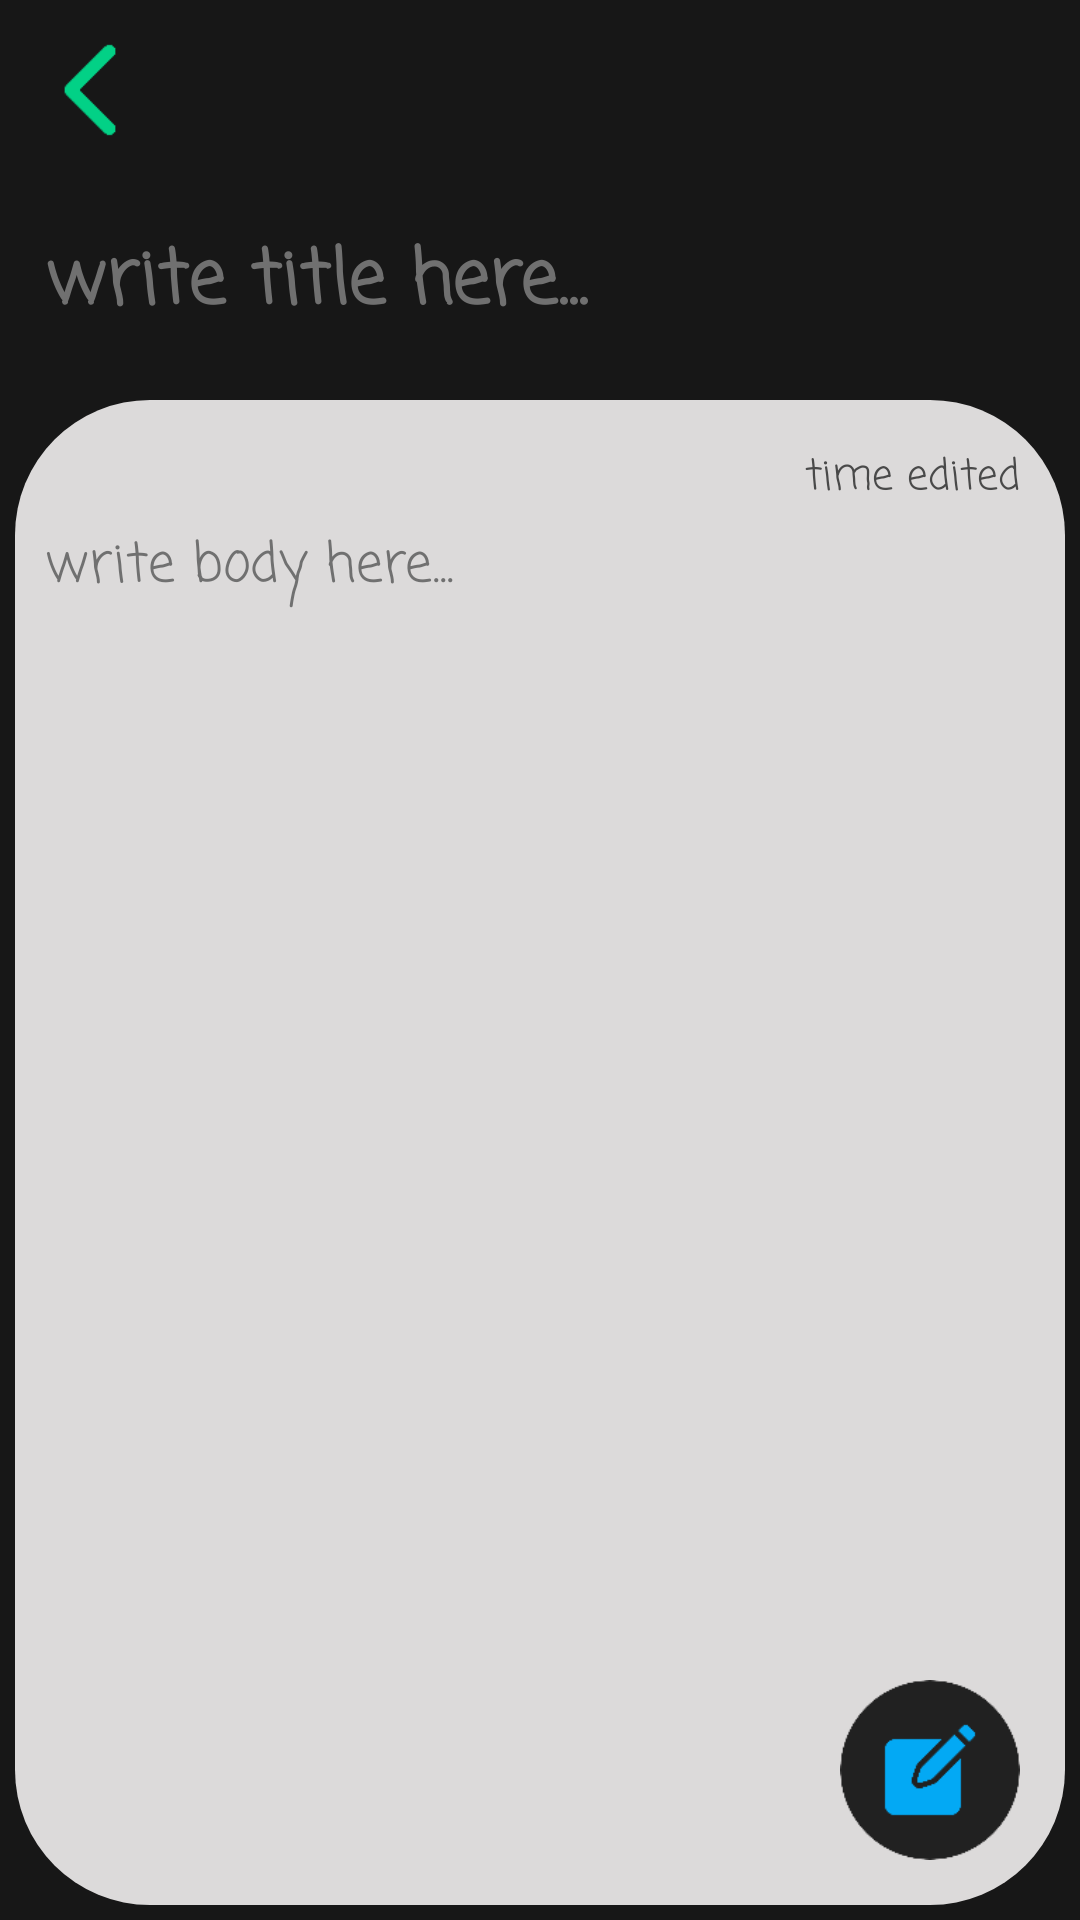

Icon bounding boxes for this 1080 x 1920 phone screenshot, format rect(x1, y1, x2, y2):
back: rect(64, 44, 116, 136)
